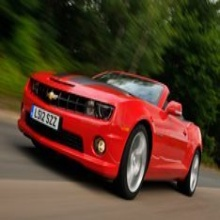no damage: (18, 67, 204, 200)
